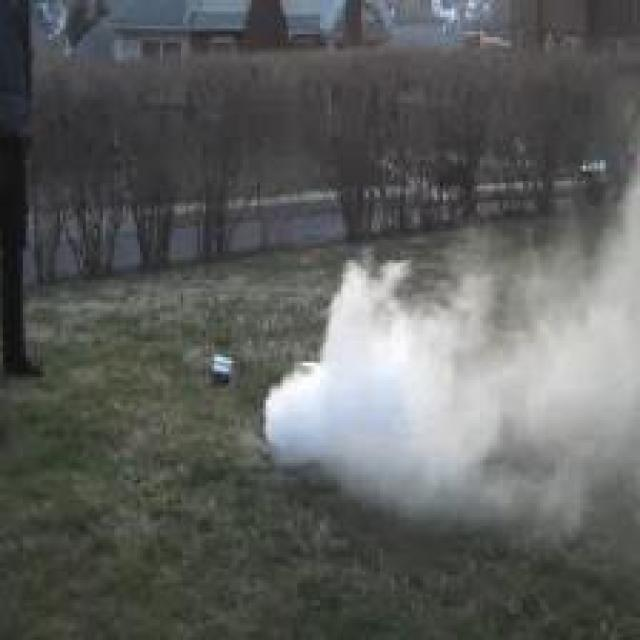Smoke: (265, 183, 640, 543)
